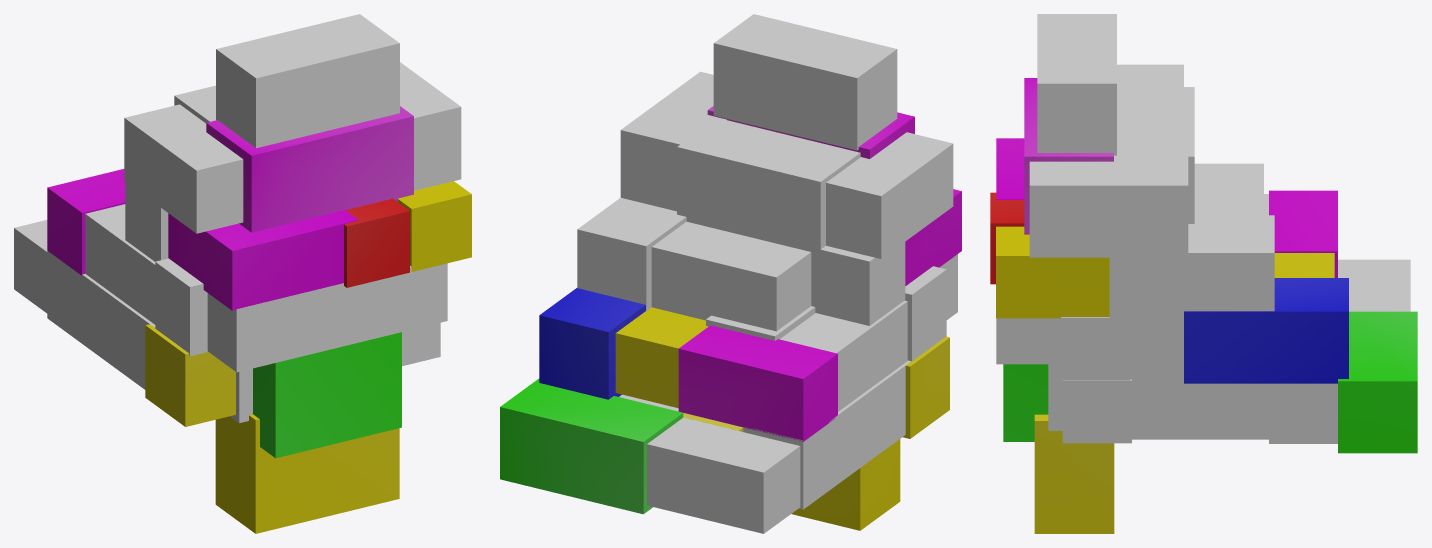
Rendered from Battlement.fbx.
3 views of the same model, side by side, from view 1: azimuth 30°, elevation 25°; view 2: azimuth 150°, elevation 25°; view 3: azimuth 270°, elevation 25° (orthographic).
Visible parts, largest first — view 1: Battlement.014_low, Battlement.005_low, Battlement.004_low, Battlement.012_low, Battlement.015_low, Battlement.016_low, Battlement.010_low, Battlement.024_low, Battlement.022_low, Battlement.006_low, Battlement.033_low, Battlement_low (+8 smaller); view 2: Battlement.014_low, Battlement.009_low, Battlement.018_low, Battlement.025_low, Battlement.023_low, Battlement.013_low, Battlement.010_low, Battlement.026_low, Battlement.024_low, Battlement.006_low, Battlement.002_low, Battlement.033_low (+9 smaller); view 3: Battlement.006_low, Battlement.026_low, Battlement.002_low, Battlement.014_low, Battlement.018_low, Battlement.028_low, Battlement_low, Battlement.004_low, Battlement.009_low, Battlement.017_low, Battlement.025_low, Battlement.019_low (+12 smaller).
Boxes of the visible parts, x1=… form: Battlement.014_low: x1=216, y1=14, x2=399, y2=148; Battlement.005_low: x1=206, y1=106, x2=413, y2=232; Battlement.004_low: x1=215, y1=414, x2=399, y2=533; Battlement.012_low: x1=207, y1=263, x2=447, y2=372; Battlement.015_low: x1=253, y1=332, x2=401, y2=458; Battlement.016_low: x1=168, y1=210, x2=358, y2=310; Battlement.010_low: x1=124, y1=104, x2=243, y2=233; Battlement.024_low: x1=47, y1=251, x2=155, y2=389; Battlement.022_low: x1=145, y1=324, x2=235, y2=426; Battlement.006_low: x1=400, y1=62, x2=461, y2=190; Battlement.033_low: x1=85, y1=204, x2=155, y2=324; Battlement_low: x1=397, y1=181, x2=471, y2=271; Battlement.014_low: x1=713, y1=14, x2=897, y2=150; Battlement.009_low: x1=677, y1=120, x2=860, y2=254; Battlement.018_low: x1=500, y1=378, x2=683, y2=514; Battlement.025_low: x1=678, y1=325, x2=837, y2=441; Battlement.023_low: x1=647, y1=417, x2=800, y2=533; Battlement.013_low: x1=651, y1=221, x2=811, y2=331; Battlement.010_low: x1=826, y1=132, x2=953, y2=258; Battlement.026_low: x1=539, y1=288, x2=645, y2=399; Battlement.024_low: x1=743, y1=360, x2=910, y2=509; Battlement.006_low: x1=620, y1=71, x2=726, y2=211; Battlement.002_low: x1=577, y1=197, x2=686, y2=311; Battlement.033_low: x1=780, y1=300, x2=907, y2=411; Battlement.006_low: x1=1029, y1=152, x2=1188, y2=257; Battlement.026_low: x1=1184, y1=278, x2=1348, y2=383; Battlement.002_low: x1=1109, y1=219, x2=1274, y2=324; Battlement.014_low: x1=1037, y1=14, x2=1116, y2=155; Battlement.018_low: x1=1338, y1=311, x2=1417, y2=453; Battlement.028_low: x1=1130, y1=377, x2=1268, y2=439; Battlement_low: x1=996, y1=226, x2=1109, y2=318; Battlement.004_low: x1=1034, y1=414, x2=1114, y2=533; Battlement.009_low: x1=1117, y1=87, x2=1194, y2=223; Battlement.017_low: x1=1062, y1=379, x2=1131, y2=443; Battlement.025_low: x1=1269, y1=190, x2=1337, y2=277; Battlement.019_low: x1=1269, y1=383, x2=1337, y2=443.
Bounding box in the file's own units: 1.04 × 1.68 × 1.44.
